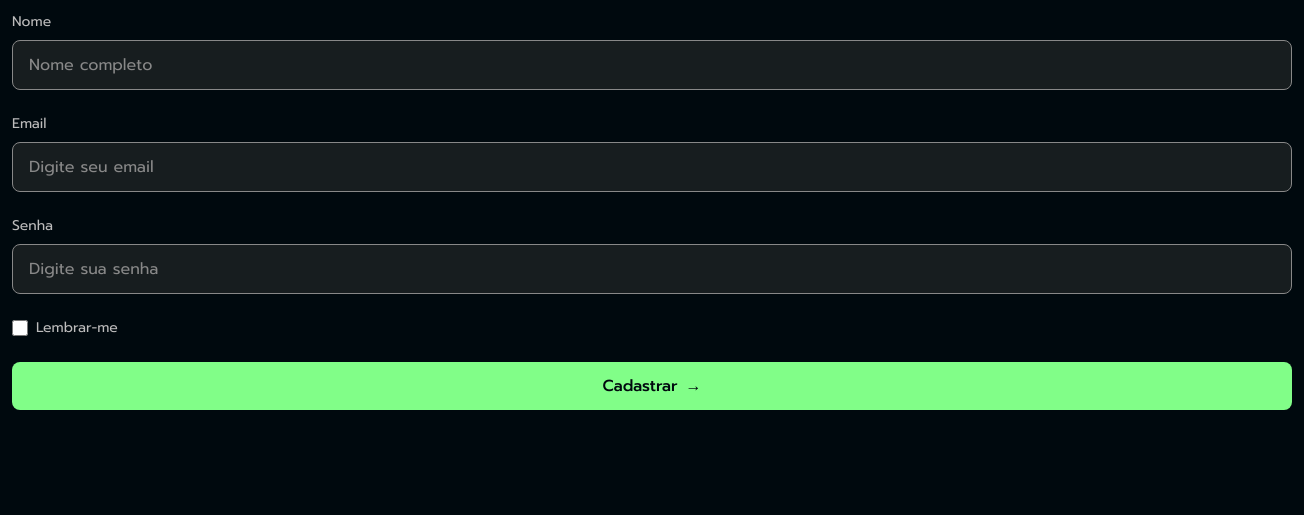
Test case: RegisterForm › shows required errors and does not submit when empty
Click the button "Cadastrar →" at (652, 386), box [12, 362, 1292, 410]
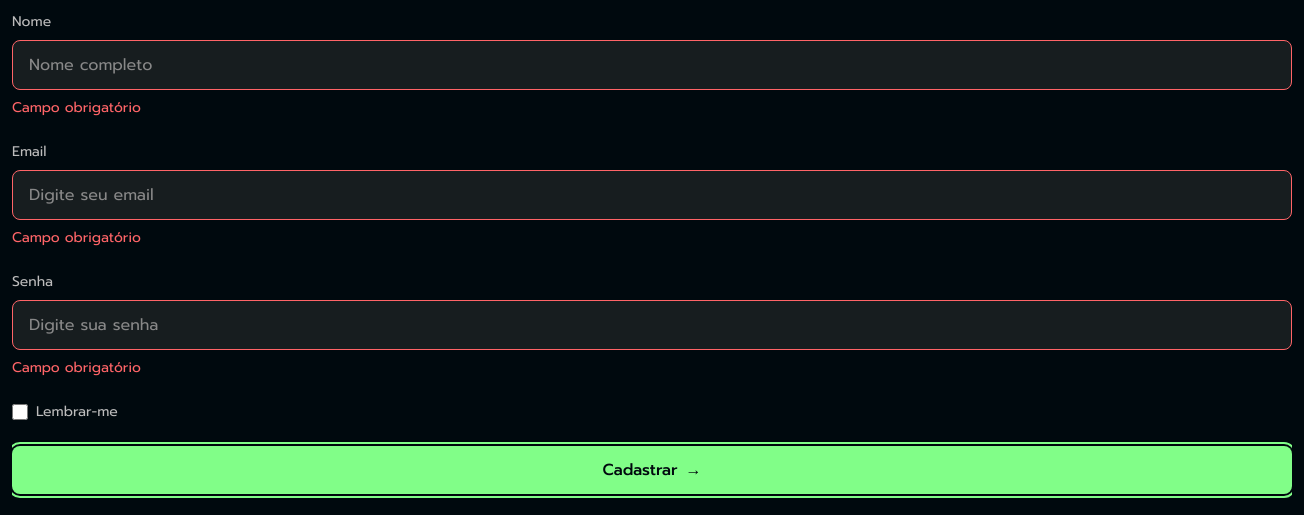
Expected: the number of messages is 3, [12, 97, 141, 118]; [12, 227, 141, 248]; [12, 357, 141, 378]
